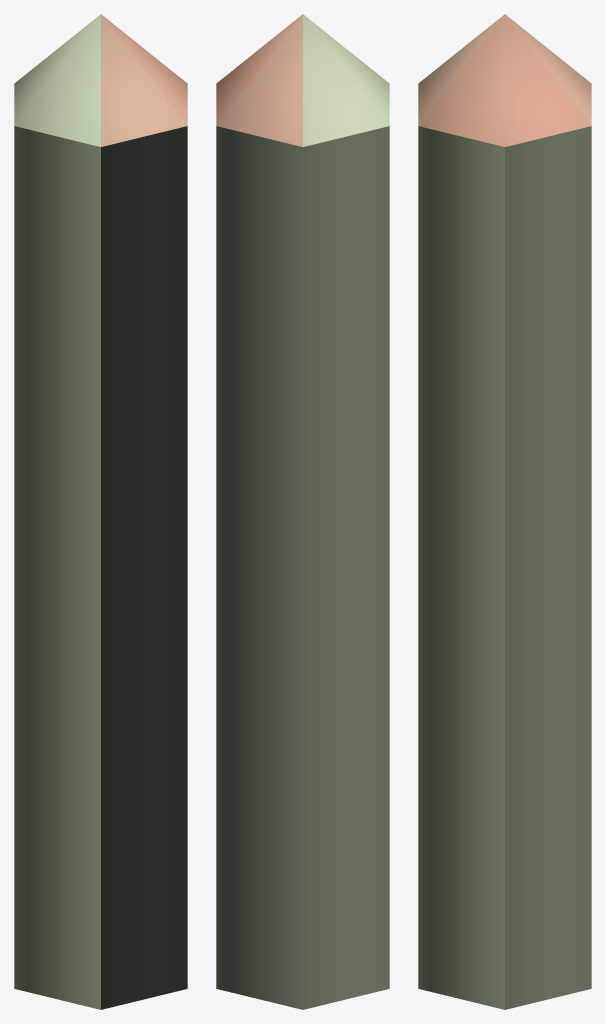
The model's file is Solo.RocketMesh.JadeSun.glb.
The picture shows the model from 3 angles, left to right: view 1: azimuth 30°, elevation 25°; view 2: azimuth 150°, elevation 25°; view 3: azimuth 270°, elevation 25°; orthographic projection.
Parts seen in each view (by area): view 1: Solo.RocketMesh.JadeSun; view 2: Solo.RocketMesh.JadeSun; view 3: Solo.RocketMesh.JadeSun.
Part boxes in pixels (bbox=[...]): Solo.RocketMesh.JadeSun: bbox=[14, 14, 187, 1009]; Solo.RocketMesh.JadeSun: bbox=[216, 14, 389, 1009]; Solo.RocketMesh.JadeSun: bbox=[418, 14, 591, 1009].
Bounding box in the file's own units: 0.2 × 1.05 × 0.1732.
Materials: 1 (1 with a texture image).
